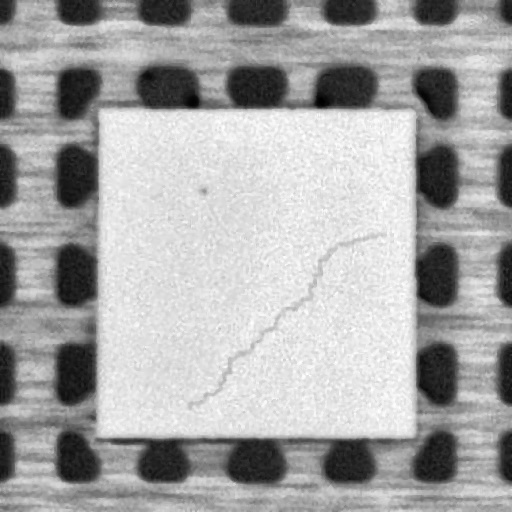DIE_CRACK: (187, 232, 387, 409)
